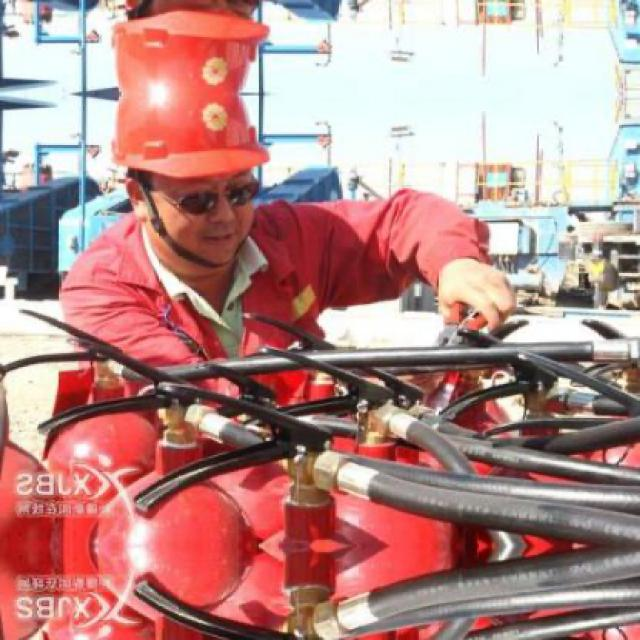2: (57, 96, 517, 393), (57, 0, 518, 94)
helmet: (97, 98, 278, 266), (95, 0, 278, 91)
